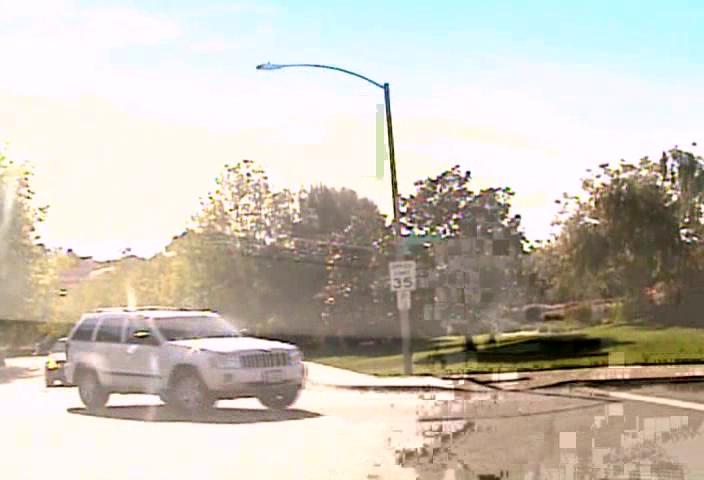speedLimit35: (387, 259, 417, 292)
